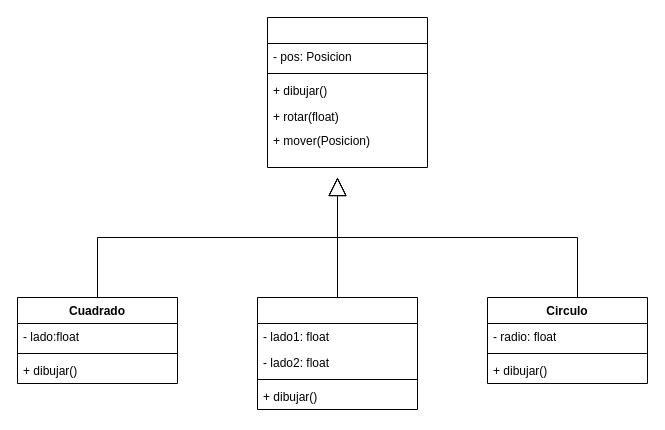
Image size: 665x430. Some labels were removed from this diagram. Each missing label, with the box of its shape:
Figura: (266, 16, 428, 168)
Rectangulo: (256, 296, 418, 410)
